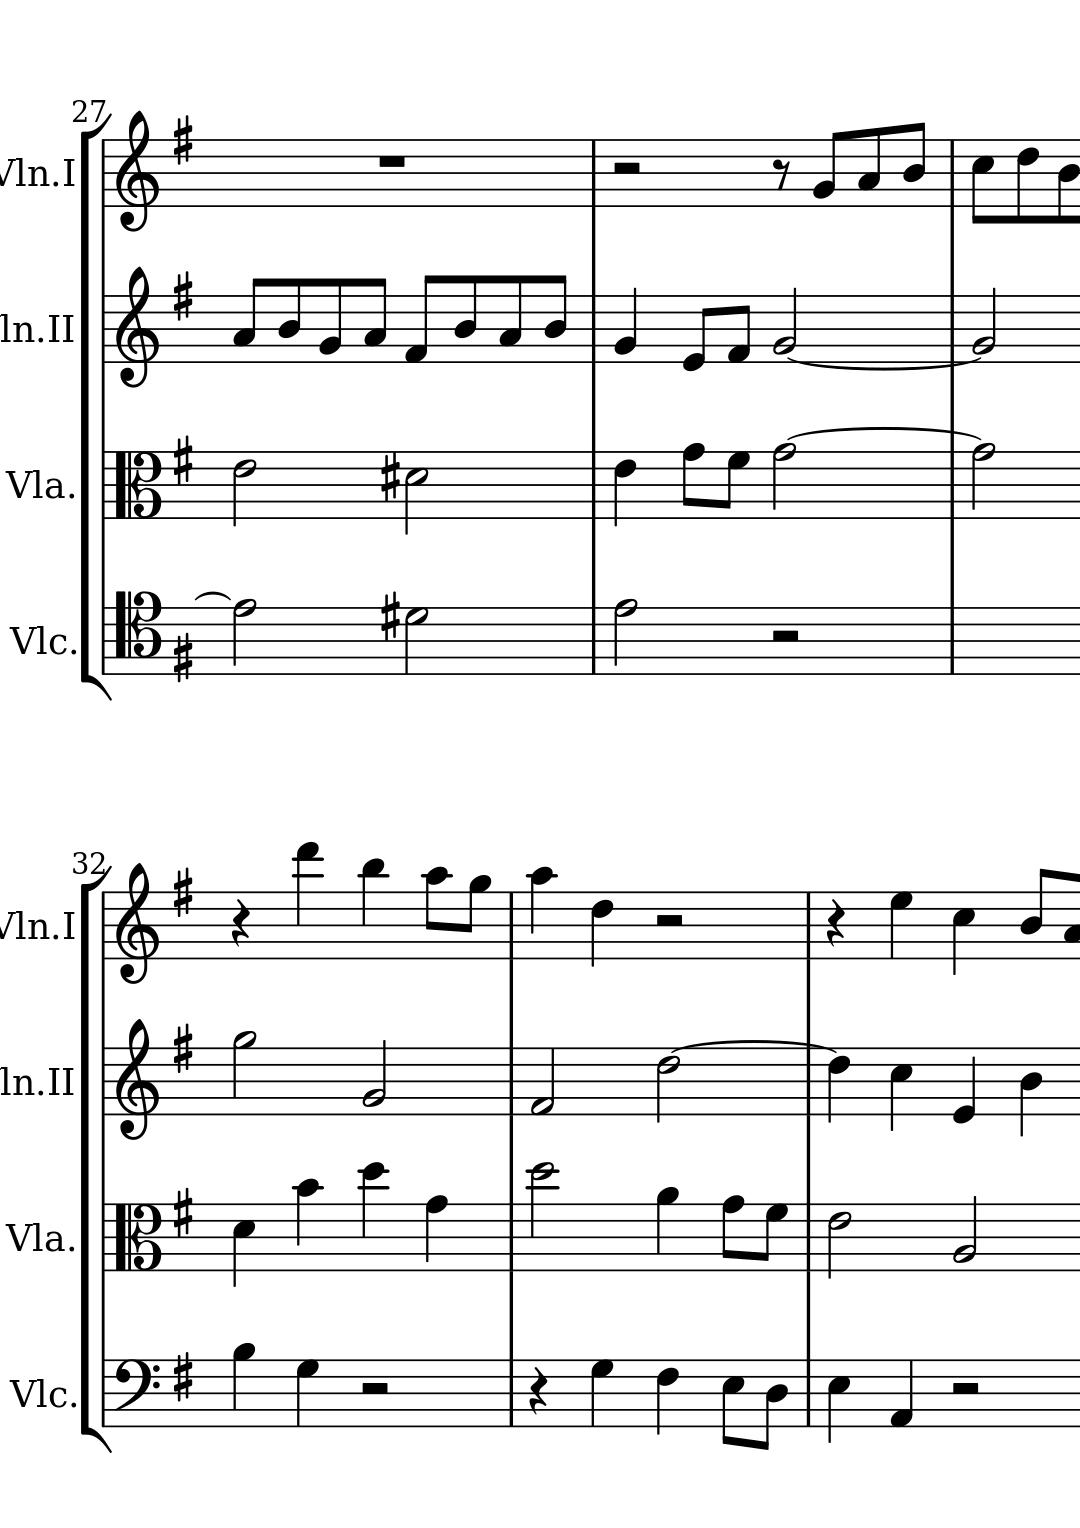2: (69, 97, 88, 125), (88, 849, 108, 874)
2_1: (528, 1046, 556, 1116)
2_12: (526, 1159, 558, 1272)
2_2: (770, 286, 799, 365), (951, 1192, 979, 1273), (360, 1038, 388, 1118), (970, 286, 997, 362)
2_5: (402, 450, 428, 537)
2_6: (230, 450, 258, 530), (655, 1046, 680, 1126), (825, 1202, 851, 1280)
2_7: (402, 604, 428, 676)
2_8: (969, 441, 996, 521), (230, 597, 257, 678), (611, 597, 637, 677), (770, 441, 795, 523)
2_9: (229, 1030, 257, 1116)
3: (70, 850, 88, 876)
4_0: (951, 1045, 977, 1126)
4_1: (887, 1358, 914, 1430)
4_10: (292, 1177, 320, 1273), (527, 866, 554, 961)
4_11: (358, 856, 385, 962)
4_12: (356, 1162, 387, 1275)
4_13: (291, 842, 321, 962)
4_2: (612, 286, 639, 364)
4_4: (1017, 1045, 1043, 1138)
4_5: (950, 890, 976, 977), (230, 1202, 256, 1290), (825, 1357, 851, 1445), (887, 1046, 913, 1133)
4_6: (588, 889, 614, 969), (611, 450, 637, 527), (826, 1046, 851, 1123), (655, 1358, 679, 1436)
4_7: (293, 1357, 320, 1427), (588, 1358, 615, 1429), (887, 890, 913, 961)
4_8: (423, 1192, 450, 1274)
4_9: (655, 1185, 680, 1273), (230, 1341, 256, 1429)
7: (89, 96, 108, 124)
8_0: (680, 293, 713, 374)
8_1: (402, 274, 439, 365), (725, 293, 752, 365)
8_10: (422, 865, 449, 960)
8_2: (810, 130, 842, 208), (317, 276, 342, 365)
8_3: (231, 276, 265, 365), (497, 274, 524, 365), (361, 276, 387, 365), (856, 126, 882, 209)
8_4: (1018, 866, 1052, 961), (757, 1357, 788, 1452), (542, 272, 569, 365), (452, 274, 478, 365), (901, 120, 926, 209), (277, 276, 302, 365)
8_5: (719, 1357, 745, 1449), (969, 136, 995, 226)
8_6: (1015, 138, 1040, 227), (1055, 138, 1079, 226)
8_7: (718, 450, 750, 520), (756, 1201, 788, 1272)
8_8: (680, 441, 705, 521), (720, 1194, 745, 1273)
8_9: (461, 874, 491, 961)
Brace: (78, 108, 111, 705)
Bracke: (78, 865, 110, 1456)
Cclef: (112, 1202, 162, 1274), (112, 450, 161, 521)
Fclef: (111, 1357, 160, 1430)
Gclef: (113, 1018, 161, 1142), (112, 108, 159, 234), (113, 264, 160, 389), (115, 862, 161, 986)
Rests1: (374, 151, 409, 171)
Rests2: (651, 910, 688, 933), (356, 1378, 393, 1401), (946, 1380, 983, 1401), (608, 159, 644, 179), (768, 628, 803, 647)
Rests4: (525, 1365, 551, 1418), (227, 898, 252, 949), (823, 898, 847, 950)
Rests8: (770, 157, 791, 192)
Sharp: (168, 113, 195, 166), (169, 269, 195, 321), (169, 1351, 195, 1404), (171, 866, 194, 920), (169, 1022, 193, 1076), (378, 589, 400, 645), (169, 435, 193, 488), (378, 450, 400, 505), (169, 1185, 192, 1240), (172, 631, 194, 683)
Single_barline: (501, 1203, 521, 1271), (944, 451, 964, 518), (799, 1203, 818, 1272), (584, 607, 603, 675), (799, 1358, 818, 1426), (501, 1360, 520, 1427), (95, 451, 113, 518), (501, 892, 520, 959), (95, 1207, 113, 1273), (799, 1055, 819, 1115), (95, 607, 112, 675), (501, 1048, 519, 1115), (584, 451, 602, 518), (95, 893, 112, 957), (584, 295, 601, 362), (96, 296, 112, 362), (799, 892, 816, 959), (584, 140, 601, 206), (944, 607, 960, 675), (97, 1048, 112, 1115), (96, 1360, 111, 1427), (944, 140, 960, 207), (96, 140, 111, 206), (944, 296, 960, 361)
Slur: (782, 426, 983, 442), (787, 358, 990, 372), (672, 1038, 835, 1055), (192, 592, 233, 603)
Tensor_Cclef: (111, 589, 161, 676)
Vla: (4, 461, 68, 509), (4, 1215, 67, 1261)
Vlc: (7, 1370, 71, 1415), (7, 617, 70, 661)
Vln: (1, 151, 55, 193)
